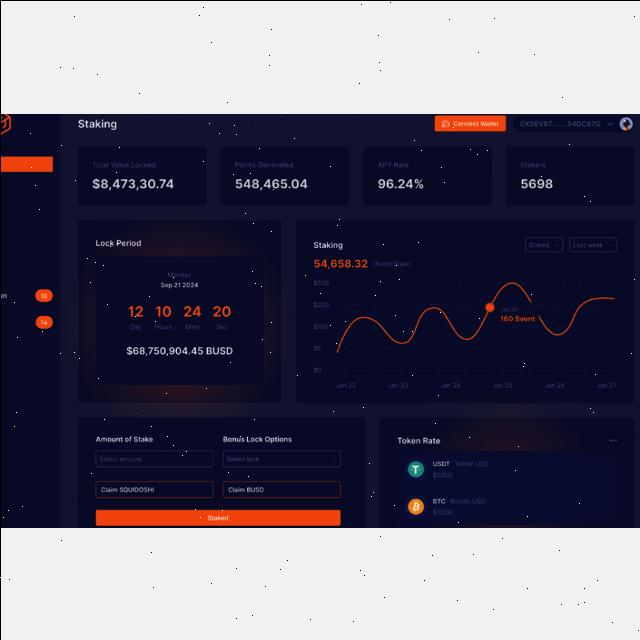QLabel: (90, 177, 174, 190), (125, 346, 232, 356), (234, 177, 306, 189), (222, 436, 290, 444), (313, 258, 367, 268), (91, 160, 155, 168), (376, 178, 424, 188), (77, 118, 116, 130), (234, 160, 292, 168), (94, 436, 152, 442), (396, 437, 438, 445), (94, 240, 140, 247), (520, 178, 552, 188), (312, 240, 342, 250), (452, 120, 498, 126), (376, 160, 409, 168), (371, 260, 409, 266), (160, 281, 197, 287), (182, 305, 200, 317), (212, 305, 230, 317), (448, 498, 484, 504), (519, 160, 545, 168), (127, 305, 143, 317), (154, 305, 170, 317), (166, 272, 190, 278), (432, 509, 452, 516), (454, 462, 488, 466), (206, 515, 228, 521), (152, 323, 172, 329), (432, 472, 452, 478), (184, 323, 198, 329), (215, 323, 227, 329), (432, 462, 450, 466), (432, 498, 444, 504), (130, 324, 140, 330)
QMenu: (0, 113, 60, 527)
VBtn: (94, 509, 340, 526), (433, 114, 505, 130)
VCard: (295, 218, 635, 404), (76, 219, 282, 403), (76, 416, 364, 528), (378, 416, 634, 528), (94, 254, 262, 386), (396, 450, 616, 524), (362, 145, 492, 205), (77, 145, 205, 205), (505, 145, 633, 205), (220, 146, 348, 204)
VCombobox: (222, 449, 340, 468), (94, 449, 212, 467), (512, 114, 634, 130), (568, 236, 616, 252), (524, 236, 562, 252)
VDivider: (396, 486, 616, 489)
VIcon: (441, 119, 449, 127), (608, 439, 616, 441)
VImg: (407, 498, 423, 516), (407, 461, 423, 477)
VSparkline: (310, 274, 618, 394)
VTextField: (94, 480, 214, 498), (222, 480, 341, 498)
